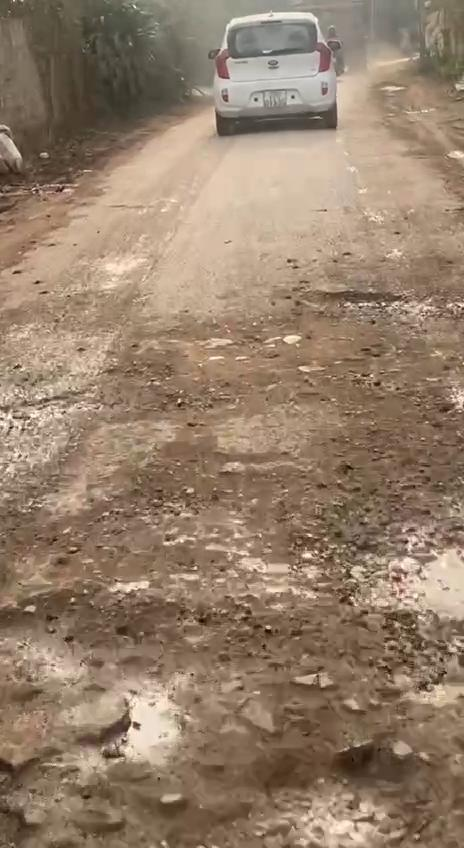pothole: (0, 594, 193, 848), (331, 492, 464, 690), (300, 288, 462, 325)
